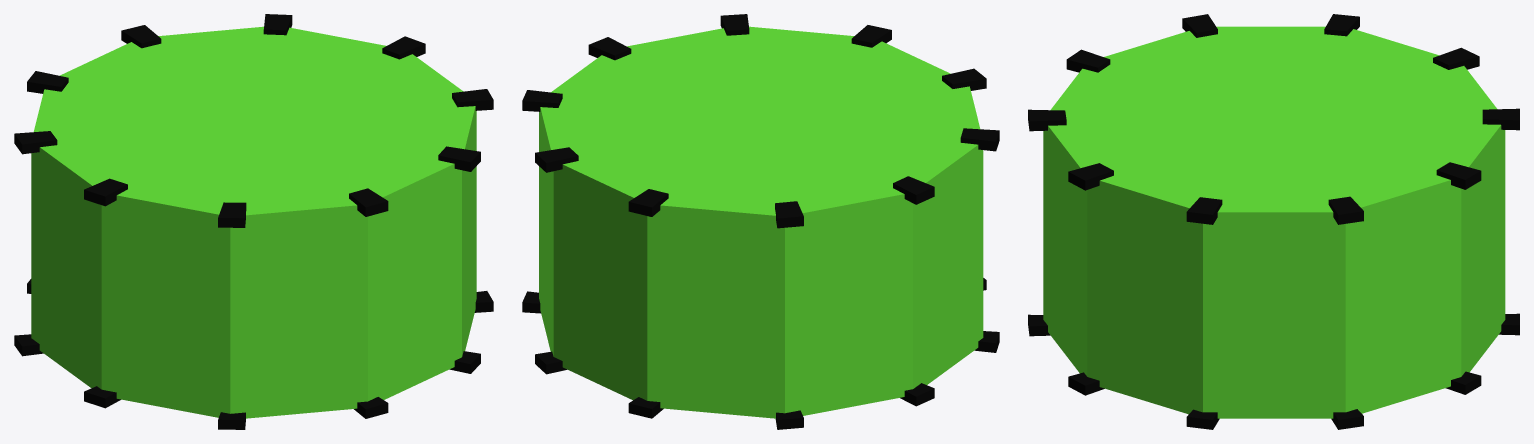
File: Dial.fbx
3 renders of one model, left to right at view 1: azimuth 30°, elevation 25°; view 2: azimuth 150°, elevation 25°; view 3: azimuth 270°, elevation 25°, orthographic.
Parts seen in each view (by area): view 1: Cube; view 2: Cube; view 3: Cube.
Boxes of the visible parts, bbox=[...] form: Cube: bbox=[14, 14, 493, 429]; Cube: bbox=[522, 14, 999, 429]; Cube: bbox=[1028, 14, 1519, 429].
Size of the model in its own units: 206 by 103 by 213.
